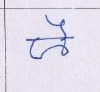e_matra: (45, 15, 70, 36)
